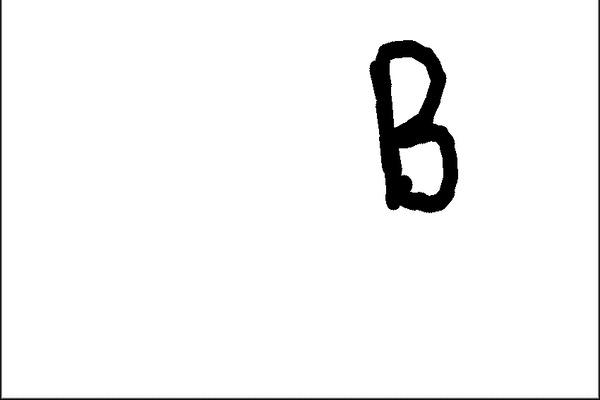B: (363, 31, 461, 218)
